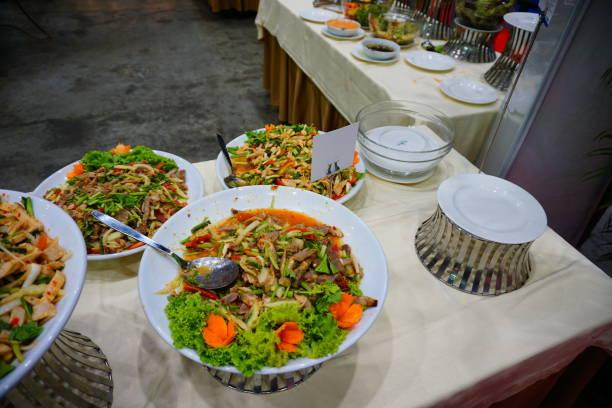Braised Crucian Carp: (141, 185, 385, 384), (30, 150, 200, 260), (215, 126, 359, 206)
